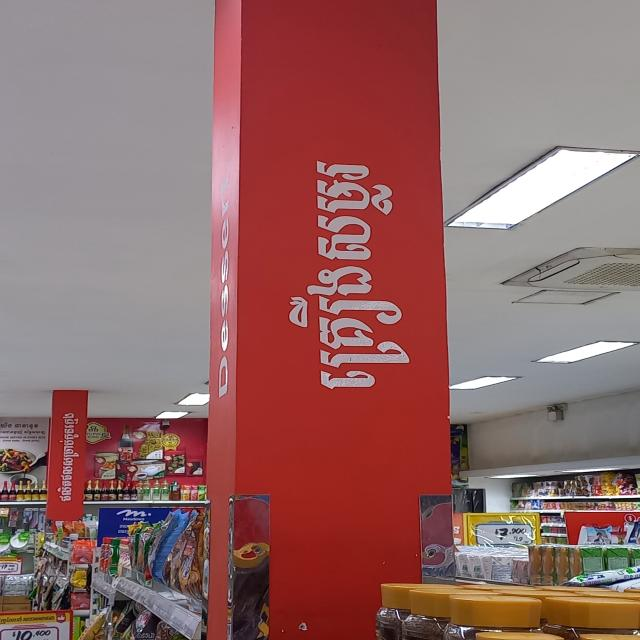Yolov11kh: (276, 151, 427, 401), (54, 409, 80, 502)
